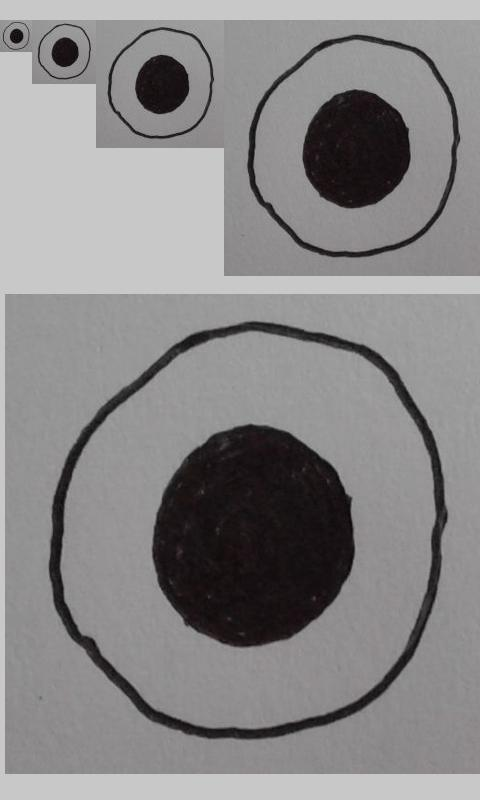radio_button: (45, 320, 447, 742), (246, 35, 460, 259), (108, 26, 214, 140), (38, 23, 91, 80), (2, 21, 30, 51)
